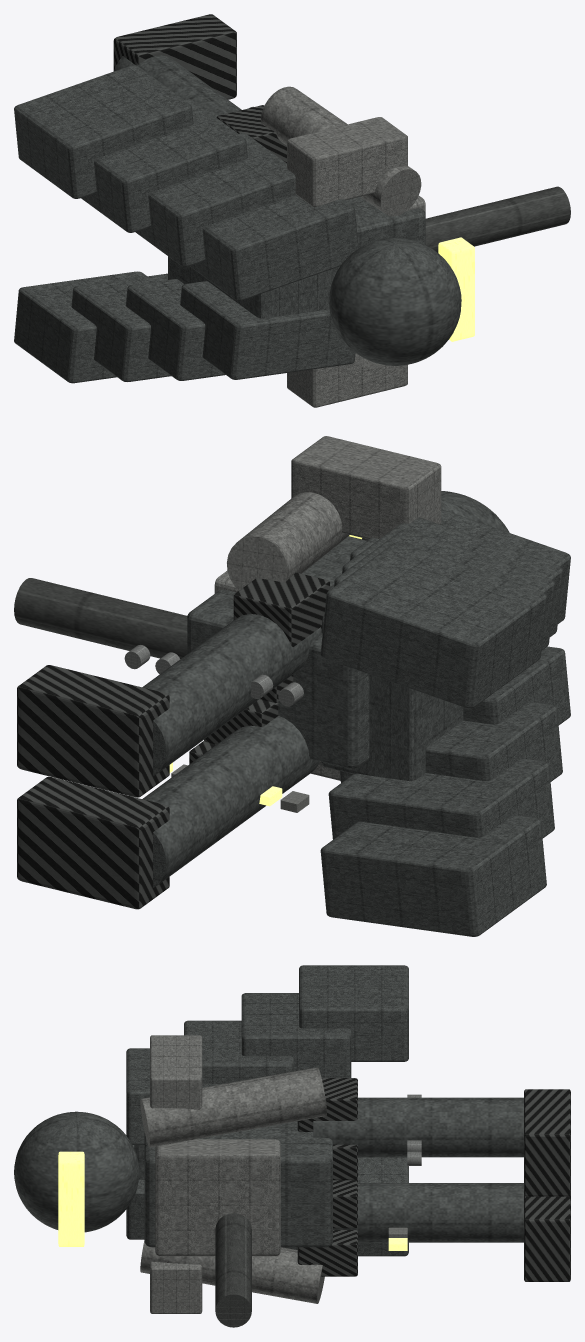
The model's file is c-u14-saboteur-lod0.glb.
The picture shows the model from 3 angles, top to bottom: view 1: azimuth 30°, elevation 25°; view 2: azimuth 150°, elevation 25°; view 3: azimuth 270°, elevation 25°; orthographic projection. The views are drawn at different scales.
Visible parts, largest first — view 1: cloak_1_3, soldier_0_helmet, cloak_1_0, cloak_-1_0, cloak_1_2, cloak_1_1, soldier_0_shoulder_1, cloak_-1_3, soldier_0_boot_1, cloak_-1_2, cloak_-1_1, soldier_0_rifle (+7 smaller); view 2: cloak_1_3, cloak_-1_3, soldier_0_boot_-1, soldier_0_boot_1, soldier_0_leg_-1, soldier_0_leg_1, cloak_-1_2, soldier_0_torso, soldier_0_shoulder_1, soldier_0_rifle, cloak_-1_1, soldier_0_backpack (+8 smaller); view 3: soldier_0_chest, soldier_0_leg_1, soldier_0_helmet, soldier_0_leg_-1, cloak_1_3, soldier_0_arm_1, soldier_0_torso, cloak_1_2, soldier_0_boot_1, soldier_0_arm_-1, soldier_0_boot_-1, soldier_0_rifle (+11 smaller).
Part boxes in pixels (bbox=[...]): cloak_1_3: bbox=[14, 65, 193, 198]; soldier_0_helmet: bbox=[329, 238, 461, 365]; cloak_1_0: bbox=[190, 195, 358, 300]; cloak_-1_0: bbox=[180, 281, 355, 379]; cloak_1_2: bbox=[81, 99, 247, 232]; cloak_1_1: bbox=[135, 133, 296, 266]; soldier_0_shoulder_1: bbox=[287, 117, 407, 207]; cloak_-1_3: bbox=[14, 271, 146, 383]; soldier_0_boot_1: bbox=[113, 14, 236, 99]; cloak_-1_2: bbox=[71, 273, 171, 381]; cloak_-1_1: bbox=[125, 279, 225, 380]; soldier_0_rifle: bbox=[425, 186, 570, 252]; cloak_1_3: bbox=[320, 542, 546, 708]; cloak_-1_3: bbox=[320, 815, 546, 936]; soldier_0_boot_-1: bbox=[17, 776, 169, 909]; soldier_0_boot_1: bbox=[17, 665, 169, 797]; soldier_0_leg_-1: bbox=[142, 716, 319, 887]; soldier_0_leg_1: bbox=[142, 614, 321, 775]; cloak_-1_2: bbox=[328, 758, 554, 839]; soldier_0_torso: bbox=[187, 536, 369, 768]; soldier_0_shoulder_1: bbox=[291, 436, 441, 539]; soldier_0_rifle: bbox=[14, 578, 187, 658]; cloak_-1_1: bbox=[340, 702, 562, 782]; soldier_0_backpack: bbox=[321, 615, 463, 781]; soldier_0_chest: bbox=[155, 1139, 280, 1256]; soldier_0_leg_1: bbox=[313, 1097, 523, 1157]; soldier_0_helmet: bbox=[14, 1111, 139, 1232]; soldier_0_leg_-1: bbox=[333, 1183, 523, 1242]; cloak_1_3: bbox=[299, 965, 408, 1061]; soldier_0_arm_1: bbox=[140, 1067, 326, 1147]; soldier_0_torso: bbox=[144, 1121, 332, 1247]; cloak_1_2: bbox=[241, 993, 351, 1077]; soldier_0_boot_1: bbox=[524, 1089, 570, 1196]; soldier_0_arm_-1: bbox=[140, 1240, 324, 1303]; soldier_0_boot_-1: bbox=[524, 1194, 570, 1281]; soldier_0_rifle: bbox=[215, 1213, 251, 1327].
Size of what is drawn, in the model's own units: 1.91 by 1.05 by 2.13.
Materials: 6 (6 with a texture image).
